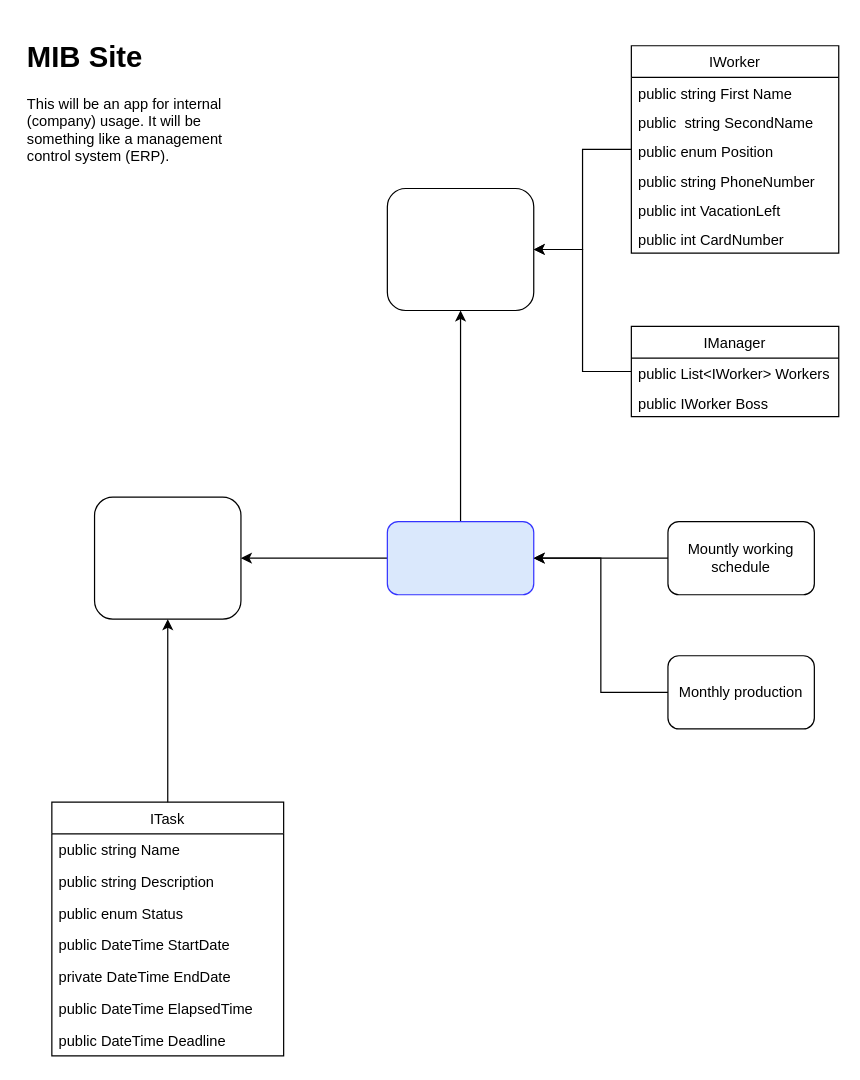
This 860x1080 diagram has some shape labels left out. Each missing label, with the centre of its shape:
List of tasks, divided by types: REPAIRS, SUPLLY, OTHER: the point at 167,557
List of workers: - names - position - wroking shift: the point at 460,248
MIB - site: the point at 460,557
